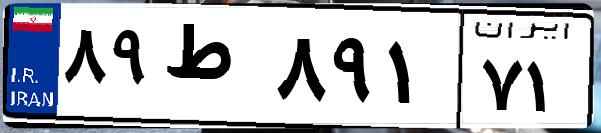1: (385, 28, 445, 110), (525, 38, 570, 115)
7: (475, 38, 525, 113)
8: (270, 28, 330, 110), (57, 26, 110, 100)
9: (330, 28, 385, 110), (110, 28, 158, 98)
ط: (158, 20, 270, 120)
